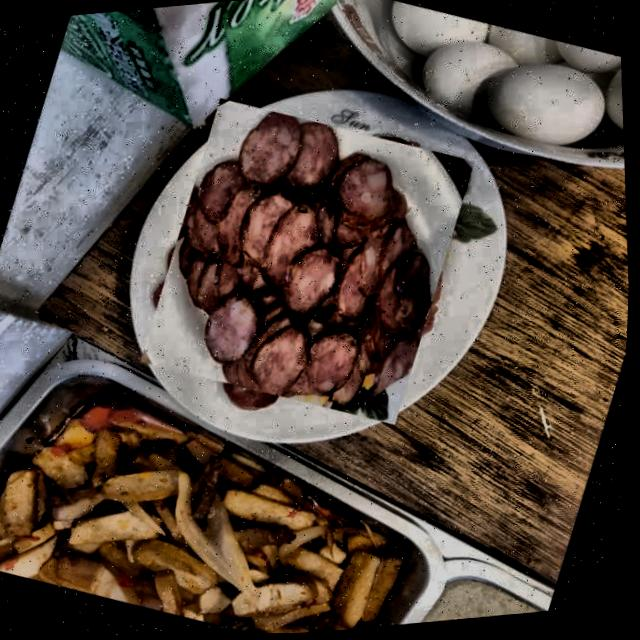Food: (120, 76, 496, 448)
